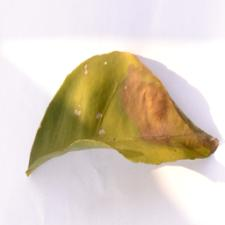Black: (114, 58, 222, 169)
